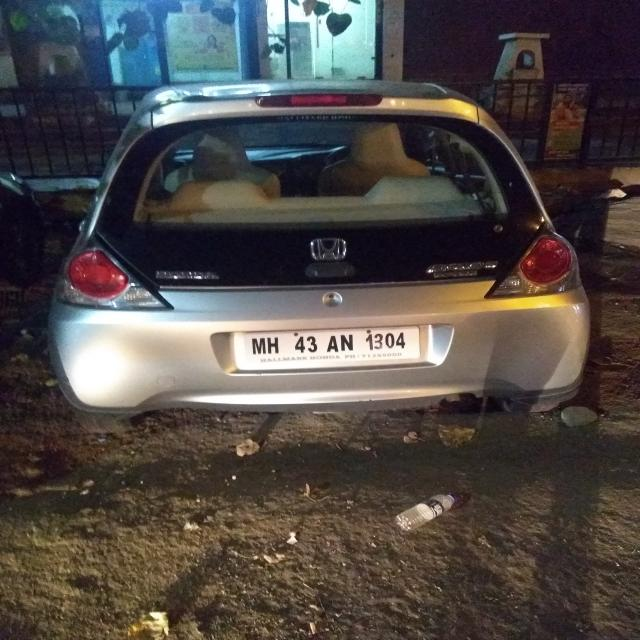Number-Plate: (242, 326, 420, 366)
